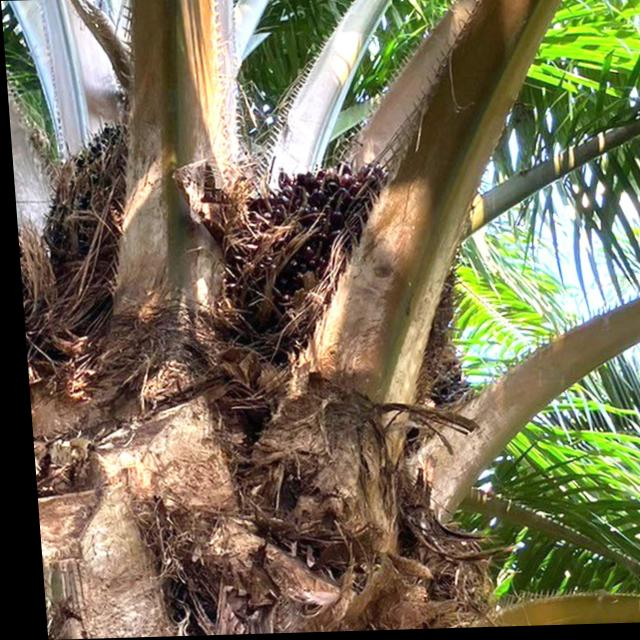ripe: (204, 158, 404, 370)
